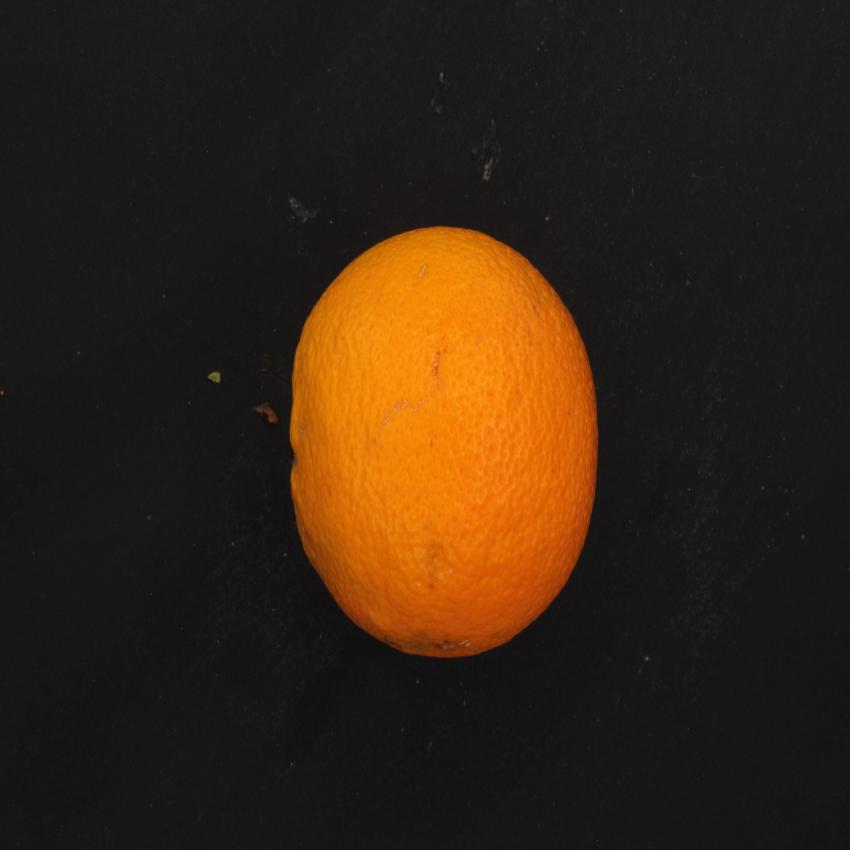Buen estado: (251, 213, 605, 671)
